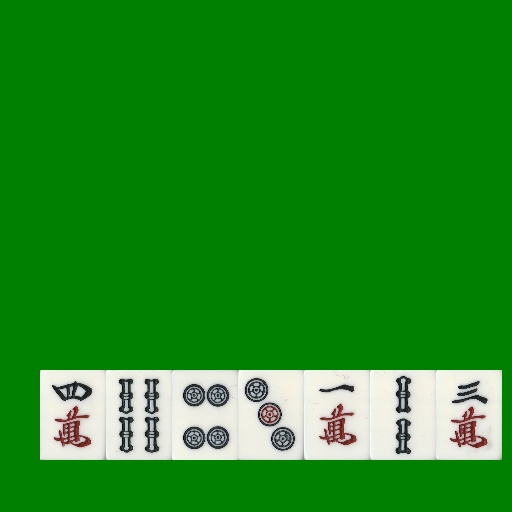1m: (304, 370, 370, 460)
2s: (370, 370, 436, 460)
3m: (436, 370, 502, 460)
3p: (238, 370, 304, 460)
4m: (40, 370, 106, 460)
4p: (172, 370, 238, 460)
4s: (106, 370, 172, 460)
